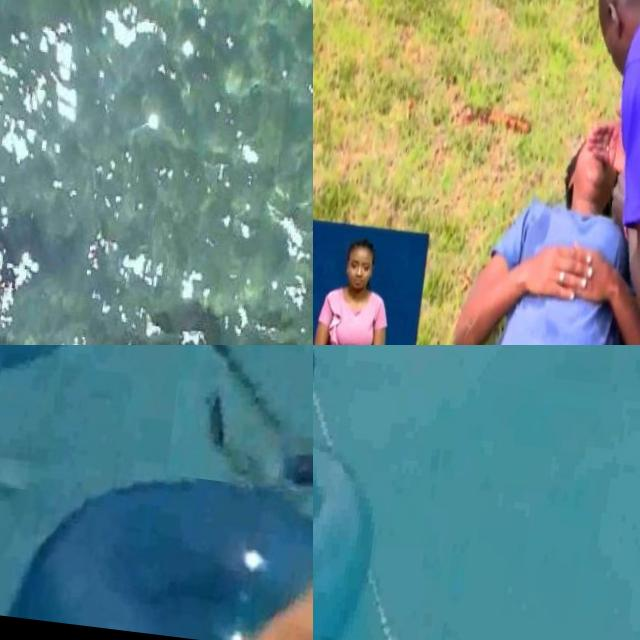drowning: (164, 345, 313, 502)
out of water: (451, 95, 640, 345), (552, 0, 640, 345)
swimming: (231, 492, 313, 640)
